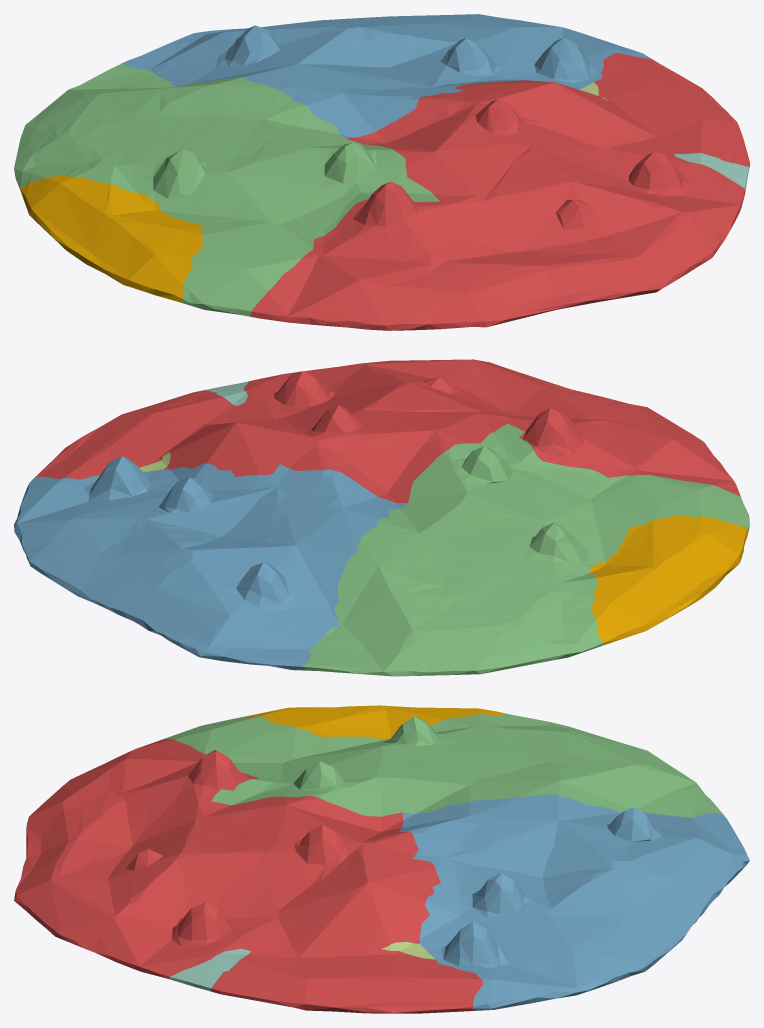
Rendered from fractured_72_6pcs.glb.
3 renders of one model, top to bottom at view 1: azimuth 30°, elevation 25°; view 2: azimuth 150°, elevation 25°; view 3: azimuth 270°, elevation 25°, orthographic. The views are drawn at different scales.
Parts seen in each view (by area): view 1: piece_1.obj, piece_3.obj, piece_2.obj, piece_0.obj, piece_4.obj; view 2: piece_3.obj, piece_2.obj, piece_1.obj, piece_0.obj, piece_4.obj; view 3: piece_1.obj, piece_2.obj, piece_3.obj, piece_0.obj, piece_4.obj.
Boxes of the visible parts, x1,y1,x2,y2 form: piece_1.obj: [250, 53, 749, 330]; piece_3.obj: [14, 63, 439, 316]; piece_2.obj: [122, 14, 650, 138]; piece_0.obj: [20, 176, 204, 302]; piece_4.obj: [674, 153, 748, 191]; piece_3.obj: [303, 423, 749, 676]; piece_2.obj: [14, 456, 406, 670]; piece_1.obj: [35, 359, 740, 503]; piece_0.obj: [589, 515, 748, 644]; piece_4.obj: [204, 381, 248, 406]; piece_1.obj: [14, 739, 483, 1013]; piece_2.obj: [400, 794, 749, 1010]; piece_3.obj: [164, 714, 723, 817]; piece_0.obj: [238, 705, 506, 739]; piece_4.obj: [169, 948, 250, 991].
Size of the model in its own units: 0.9812 by 0.1667 by 1.
